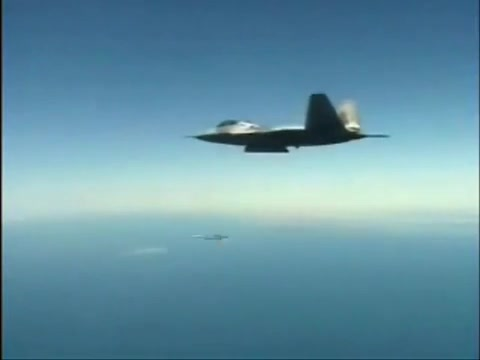aeroplane: (188, 94, 392, 154)
